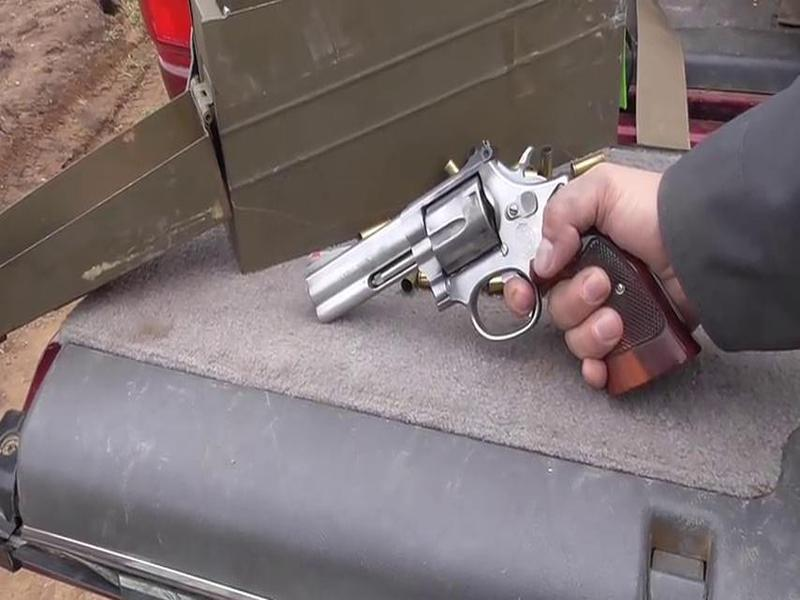Revolver: (313, 141, 624, 386)
